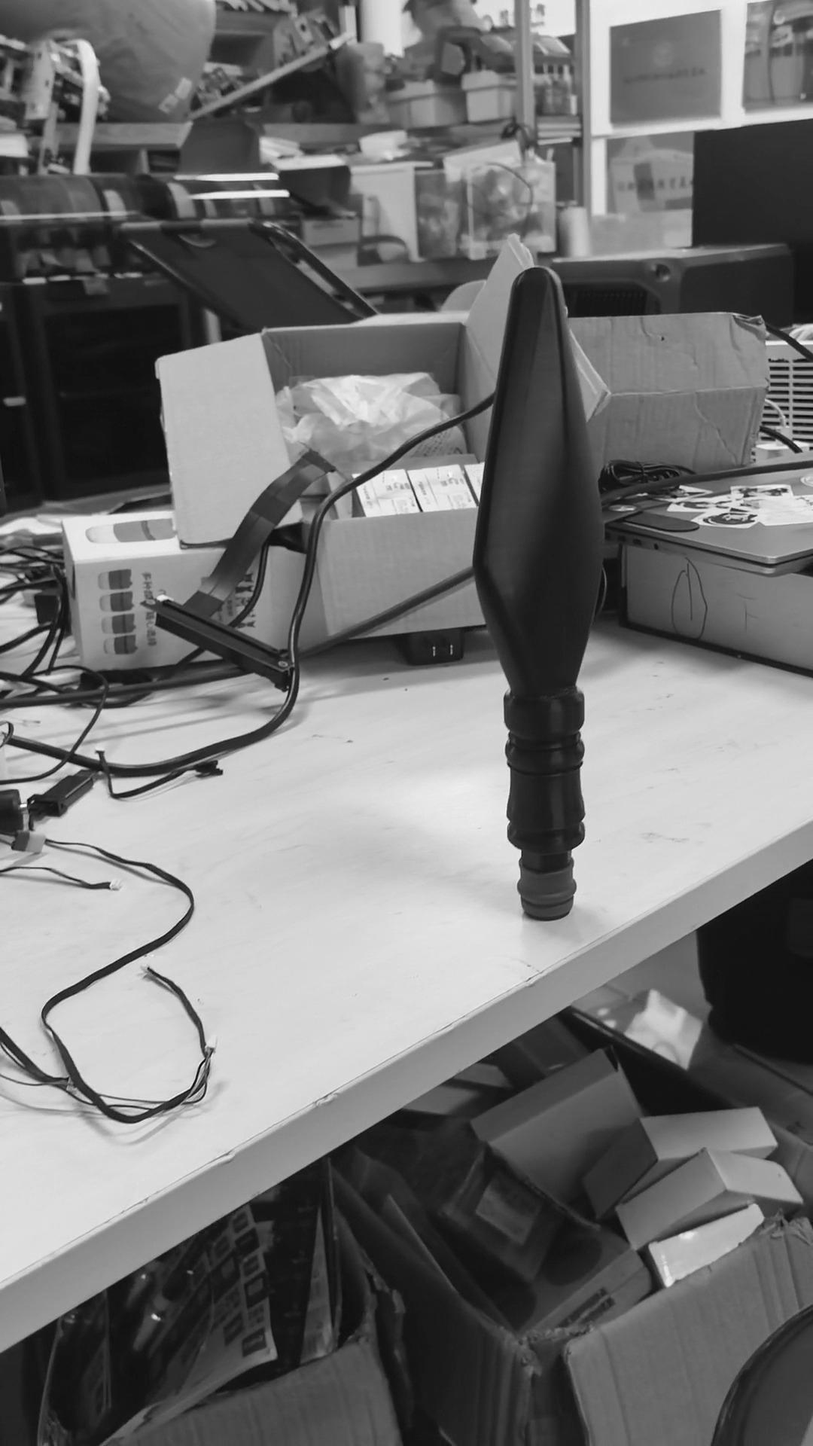base: (514, 859, 585, 926)
